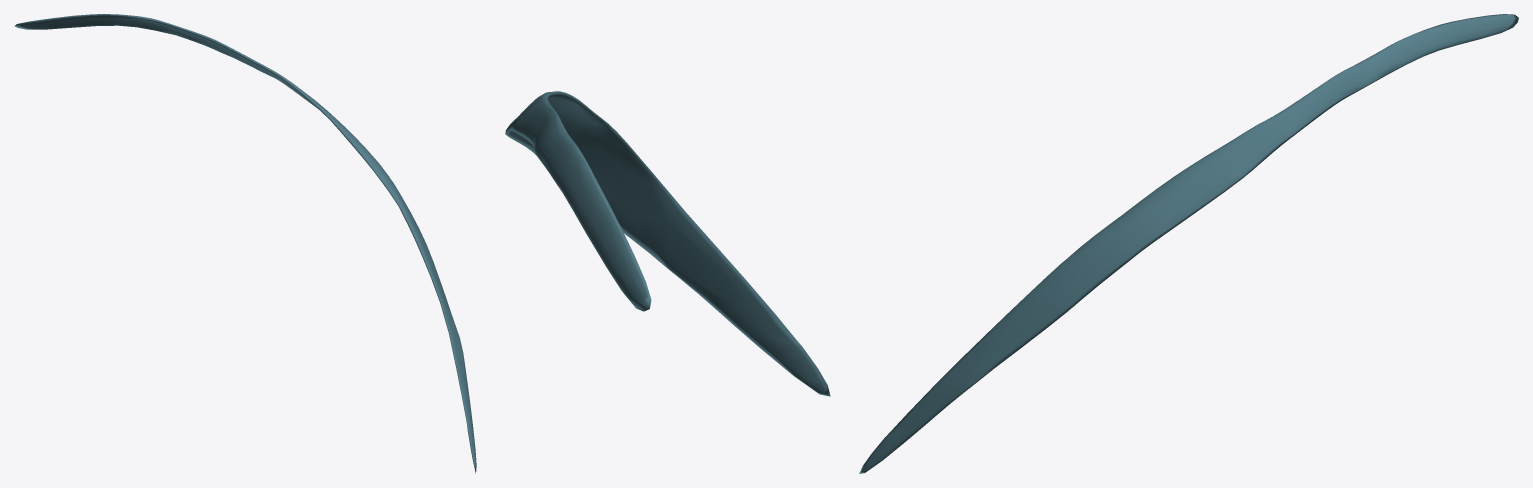
The model's file is External_abdominal_oblique_muscle-Iliac_insertion.l_Generated_M.glb.
3 views of the same model, side by side, from view 1: azimuth 30°, elevation 25°; view 2: azimuth 150°, elevation 25°; view 3: azimuth 270°, elevation 25° (orthographic). The views are drawn at different scales.
Visible parts, largest first — view 1: External_abdominal_oblique_muscle-Iliac_insertion.l_Generate; view 2: External_abdominal_oblique_muscle-Iliac_insertion.l_Generate; view 3: External_abdominal_oblique_muscle-Iliac_insertion.l_Generate.
Part boxes in pixels (x1,y1,x2,y2): External_abdominal_oblique_muscle-Iliac_insertion.l_Generate: (14, 14, 476, 473); External_abdominal_oblique_muscle-Iliac_insertion.l_Generate: (505, 91, 830, 396); External_abdominal_oblique_muscle-Iliac_insertion.l_Generate: (859, 14, 1518, 473).
Bounding box in the file's own units: 0.0418 × 0.0562 × 0.0893.
